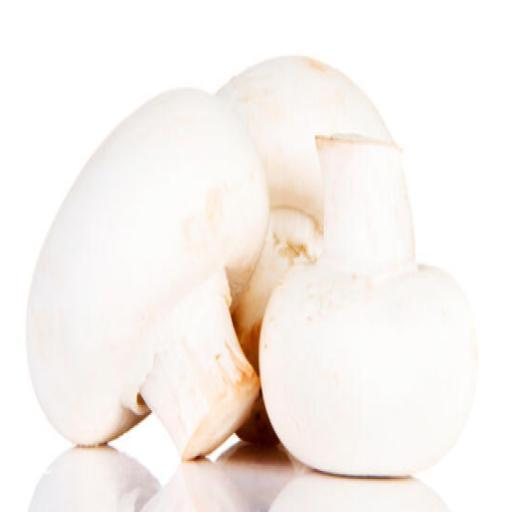mushroom: (22, 78, 261, 464), (262, 121, 480, 486)
